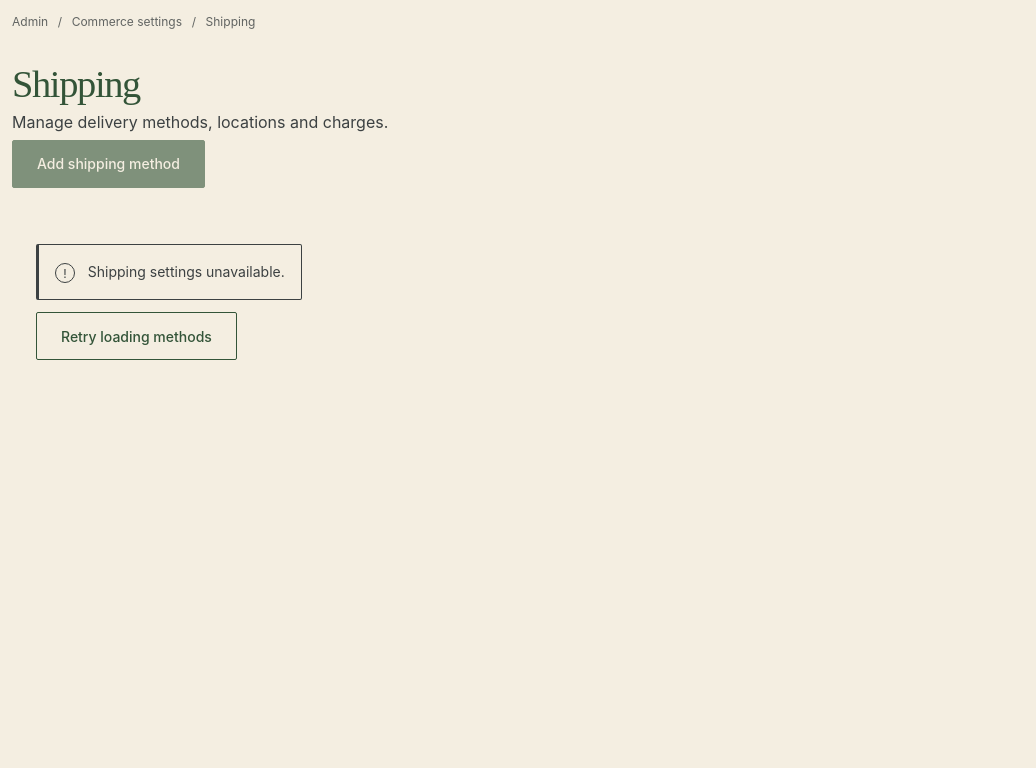
Test: owner commerce settings › shows a retryable load error rather than a permanent loading state
Expected: the text "Shipping settings unavailable." is shown, [88, 261, 285, 283]
Click the button "Retry loading methods". click: (136, 336)
box: [36, 312, 237, 360]
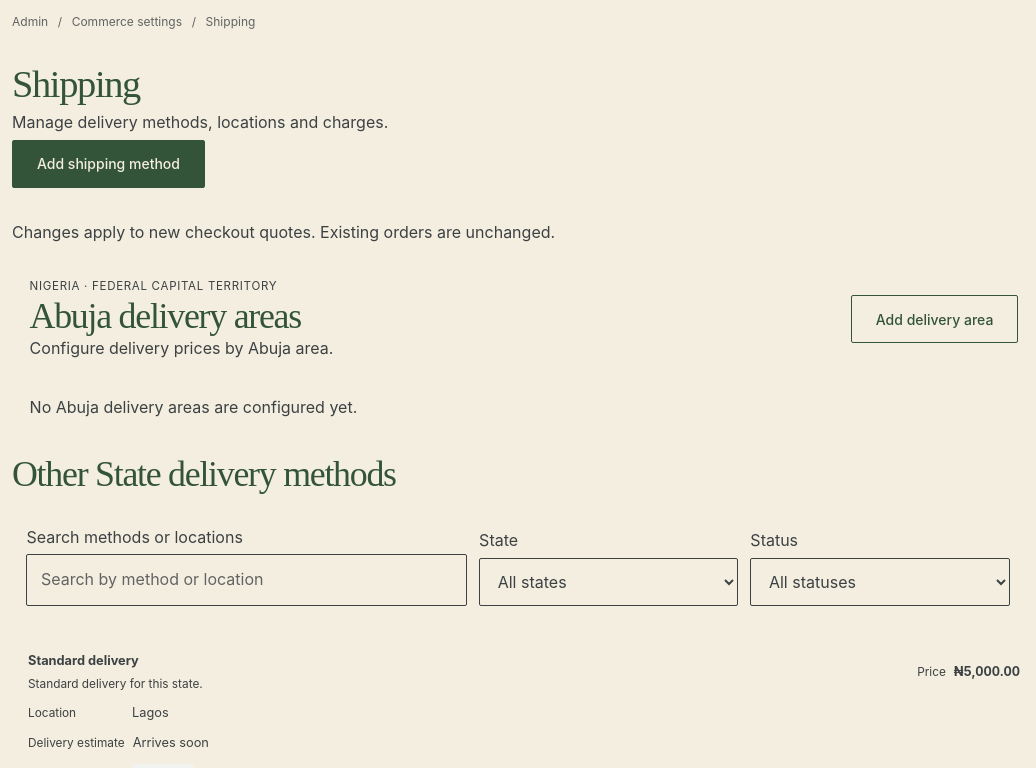
Expected: the text "Standard delivery" is shown, [28, 653, 139, 668]
